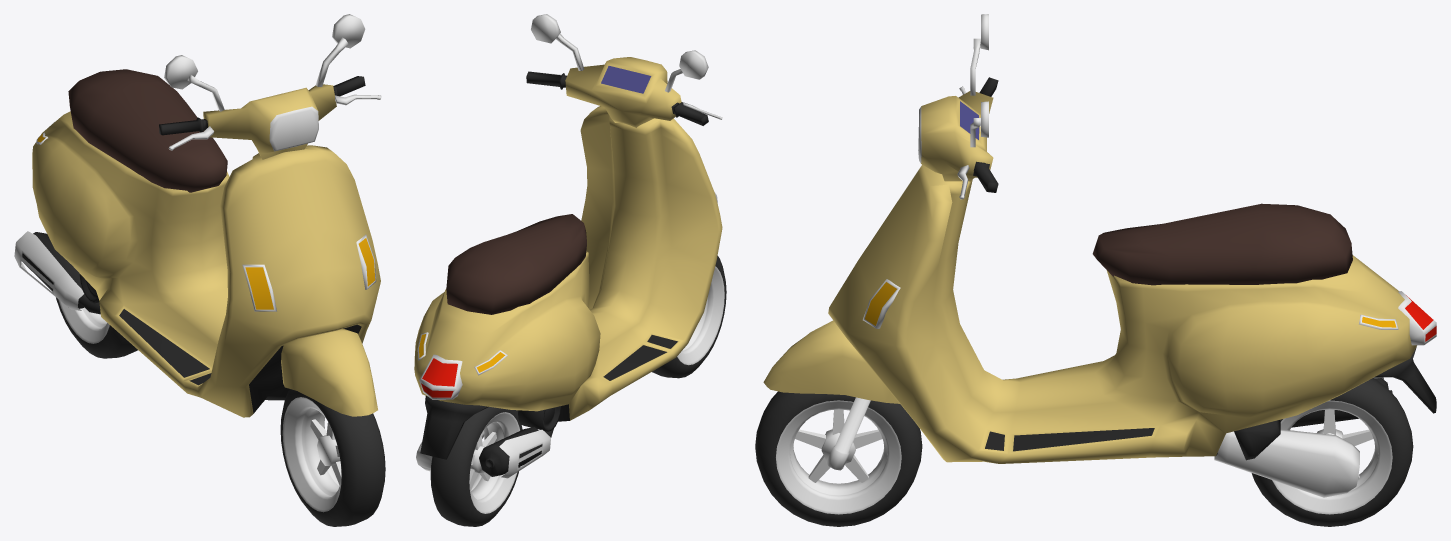
The model's file is vespa1.fbx.
The picture shows the model from 3 angles, left to right: view 1: azimuth 30°, elevation 25°; view 2: azimuth 150°, elevation 25°; view 3: azimuth 270°, elevation 25°; orthographic projection. The views are drawn at different scales.
Visible parts, largest first — view 1: body, jok, banDepan, stang, Plane, spion, Plane.001, banBelakang, Cube.006, knalpot, Cube.008, Cube.001 (+1 smaller); view 2: body, jok, stang, banBelakang, banDepan, Cube, spion, Cube.005, Plane.001, knalpot, Cylinder, Cube.007 (+1 smaller); view 3: body, jok, banDepan, banBelakang, Cube.002, Plane, stang, Cube.001, shockDepan, spion, Cube, Cube.003 (+2 smaller).
Part boxes in pixels (bbox=[...]): body: bbox=[32, 111, 380, 417]; jok: bbox=[68, 69, 227, 192]; banDepan: bbox=[280, 389, 385, 526]; stang: bbox=[159, 76, 365, 159]; Plane: bbox=[281, 329, 377, 416]; spion: bbox=[164, 14, 365, 111]; Plane.001: bbox=[14, 231, 83, 310]; banBelakang: bbox=[56, 297, 137, 358]; Cube.006: bbox=[242, 234, 376, 311]; knalpot: bbox=[22, 232, 100, 314]; Cube.008: bbox=[168, 94, 381, 150]; Cube.001: bbox=[310, 419, 341, 485]; body: bbox=[414, 106, 722, 421]; jok: bbox=[446, 214, 586, 314]; stang: bbox=[526, 57, 708, 127]; banBelakang: bbox=[430, 407, 522, 526]; banDepan: bbox=[652, 256, 726, 378]; Cube: bbox=[420, 396, 488, 459]; spion: bbox=[531, 14, 708, 92]; Cube.005: bbox=[419, 354, 462, 399]; Plane.001: bbox=[499, 429, 550, 478]; knalpot: bbox=[479, 427, 553, 476]; Cylinder: bbox=[518, 406, 561, 431]; Cube.007: bbox=[417, 332, 507, 375]; body: bbox=[828, 164, 1416, 463]; jok: bbox=[1092, 203, 1352, 285]; banDepan: bbox=[755, 391, 922, 526]; banBelakang: bbox=[1251, 378, 1413, 526]; Cube.002: bbox=[1214, 429, 1359, 497]; Plane: bbox=[763, 320, 899, 403]; stang: bbox=[918, 77, 998, 192]; Cube.001: bbox=[795, 409, 882, 482]; shockDepan: bbox=[826, 397, 870, 470]; spion: bbox=[970, 14, 988, 147]; Cube: bbox=[1374, 346, 1436, 413]; Cube.003: bbox=[1234, 420, 1280, 460].
Bounding box in the file's own units: 286 × 559 × 745.
